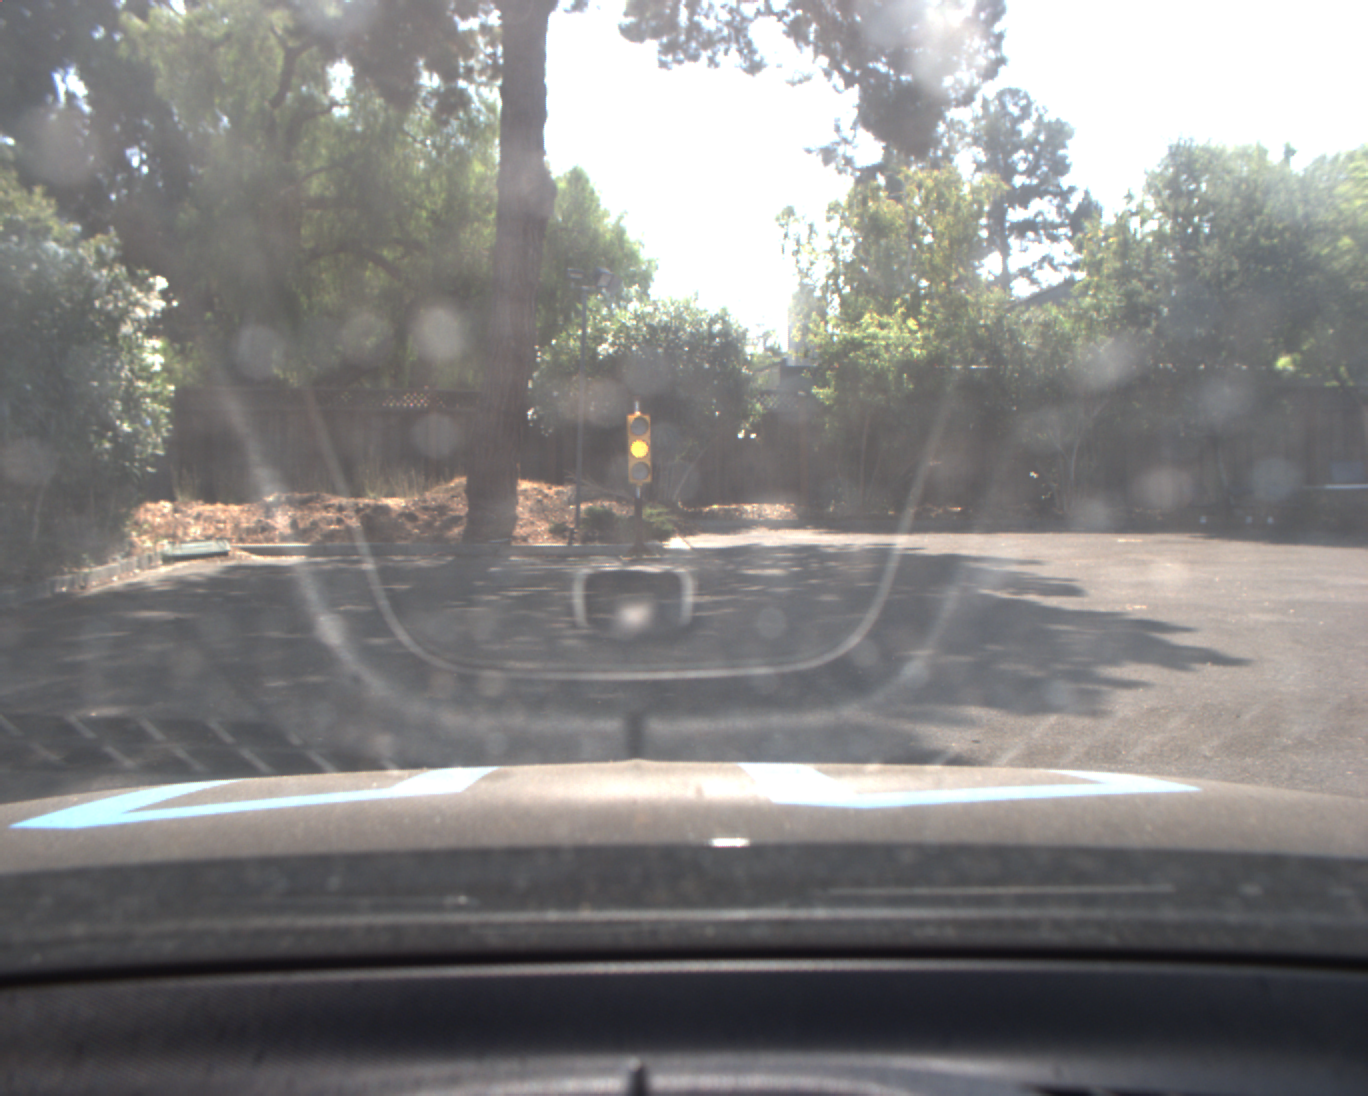yellow: (625, 410, 654, 484)
